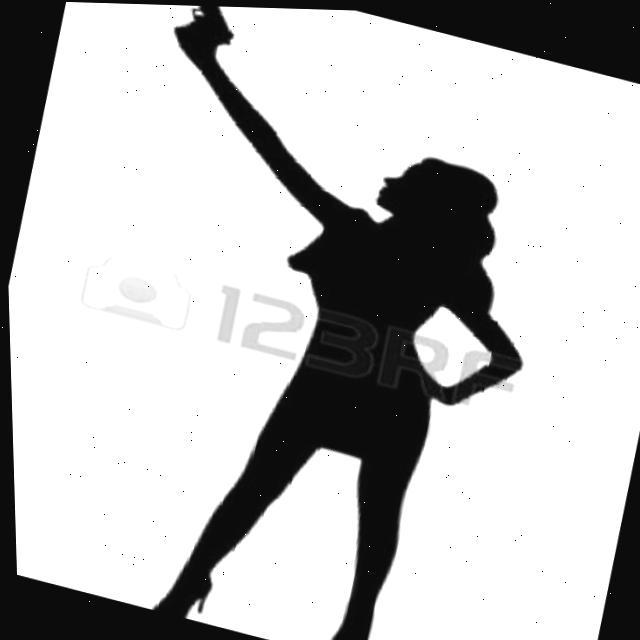gun: (167, 4, 247, 52)
